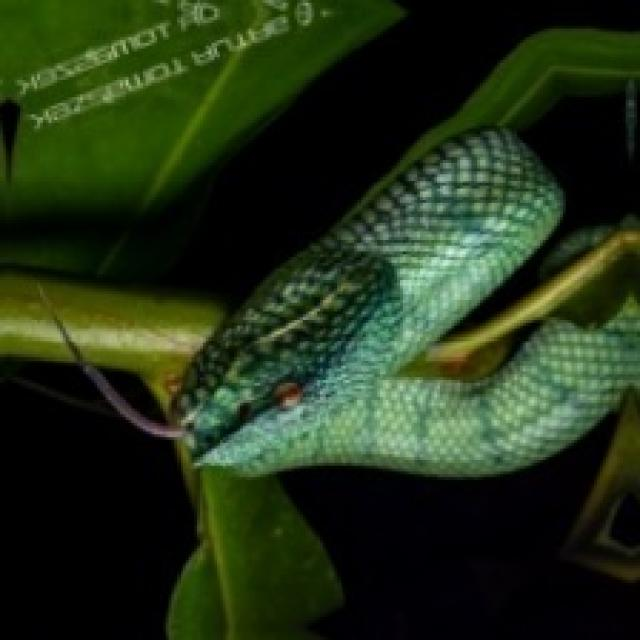north ph temple pitviper: (177, 126, 637, 637)
